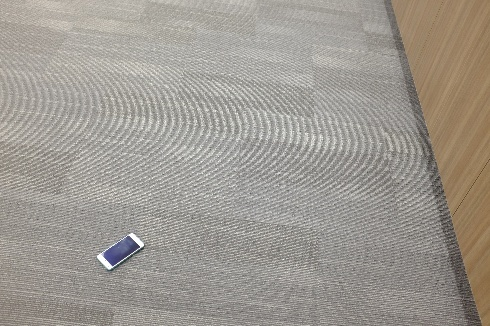phone: (98, 235, 147, 267)
